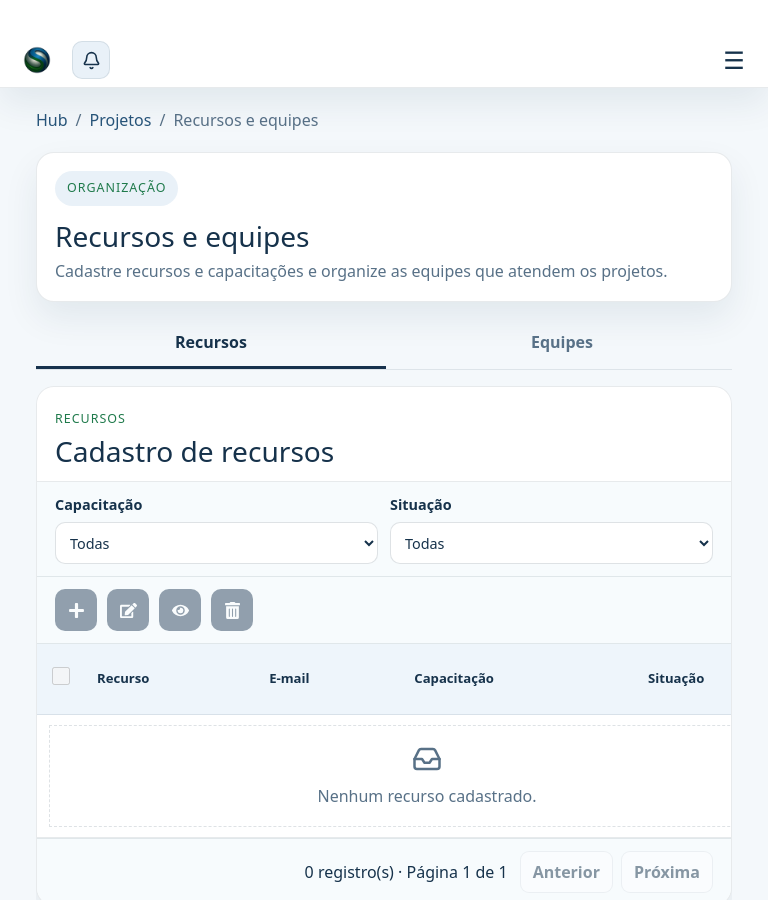
Test: navegação e layout com dados simulados › mantém Recursos e Equipes íntegros em tablet
Expected: the heading "Recursos e equipes" is shown, [55, 217, 310, 255]
Expected: the text "Nenhum recurso cadastrado." is shown, [318, 784, 536, 808]
Click the tab "Equipes" at {"x": 562, "y": 344}, box [392, 318, 732, 369]
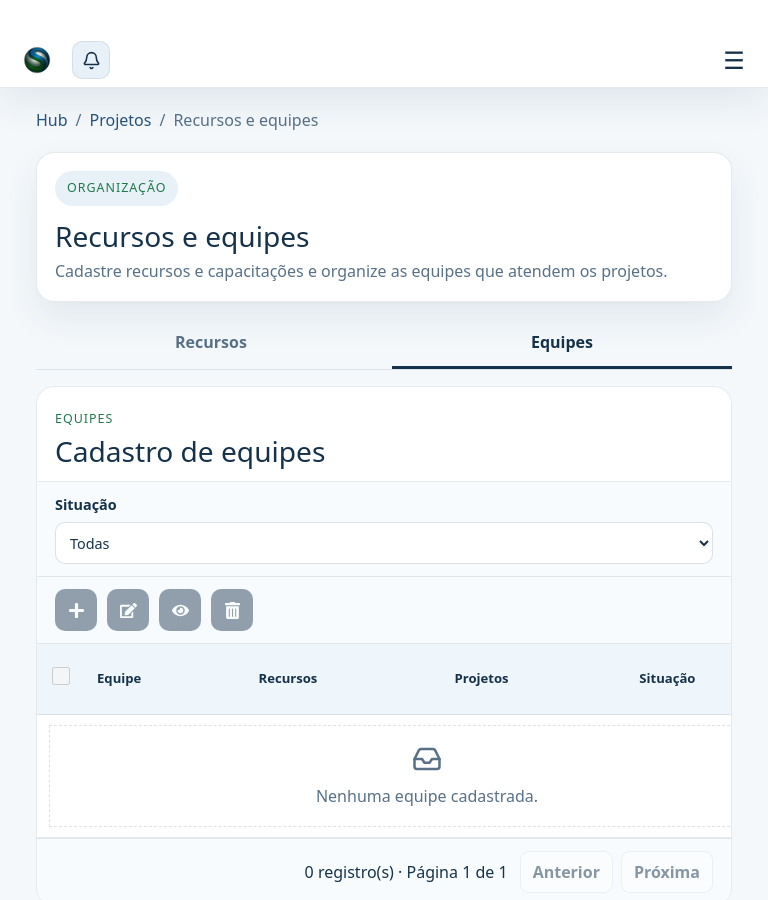
Now the text "Nenhuma equipe cadastrada." is shown, box [316, 784, 538, 808]
Now the text "Nenhum recurso cadastrado." is gone
Now the number of panels is 1, box [36, 386, 732, 899]
